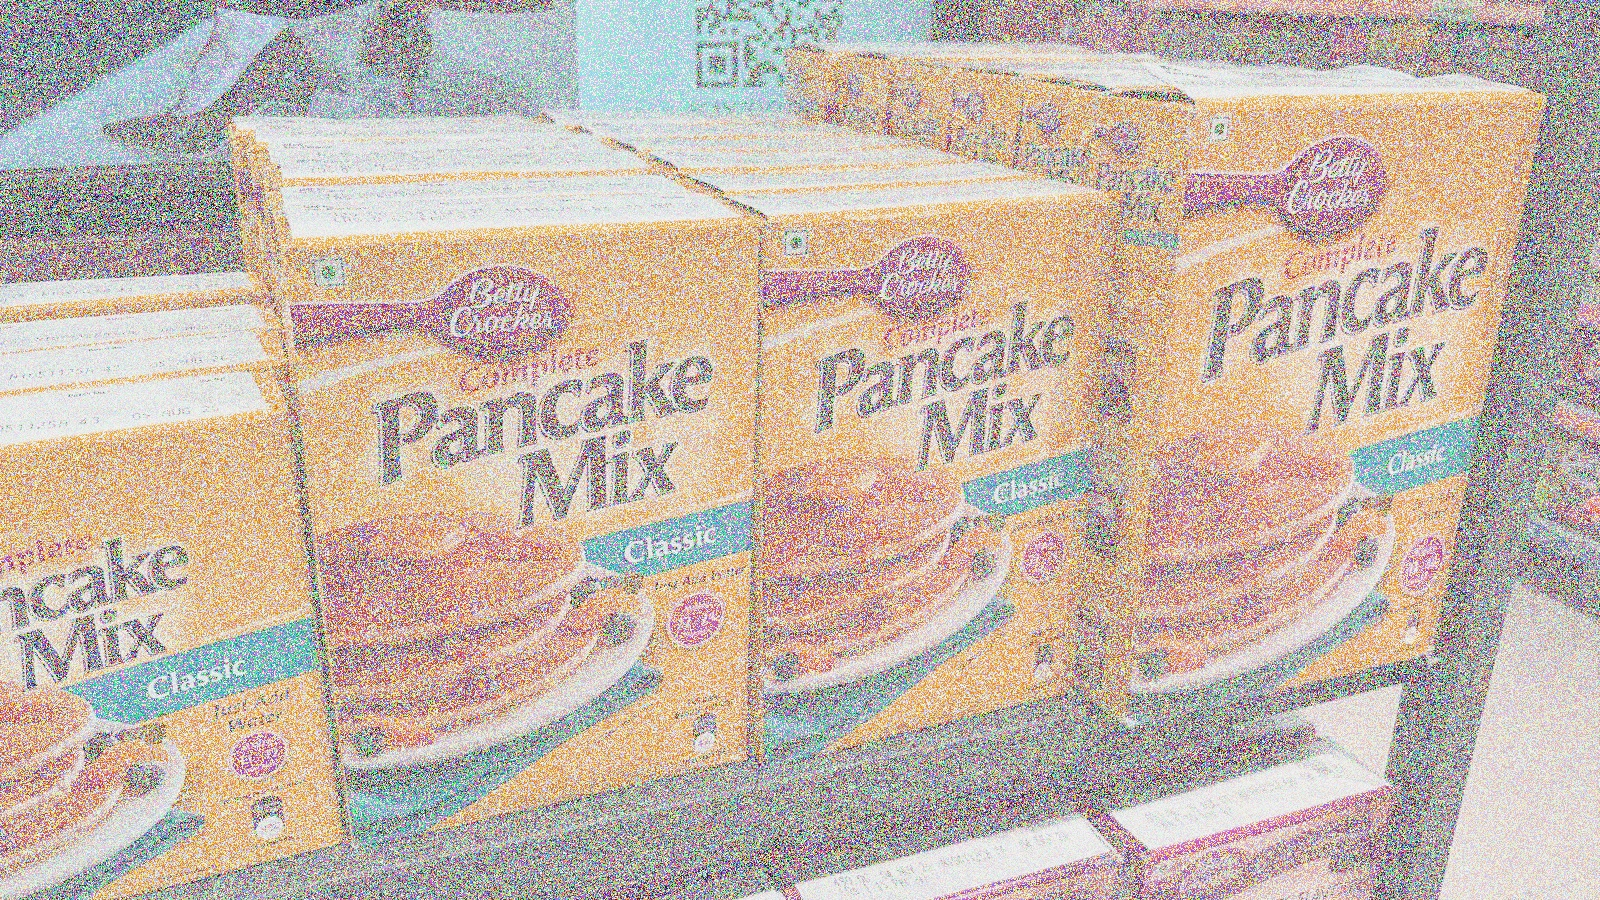Betty Crocker Pancake Mix: (267, 192, 757, 838), (1089, 66, 1451, 710), (756, 174, 1125, 777), (0, 367, 341, 881), (946, 60, 1029, 174), (1024, 64, 1097, 189), (888, 51, 958, 153), (833, 44, 895, 138), (781, 32, 836, 122)
